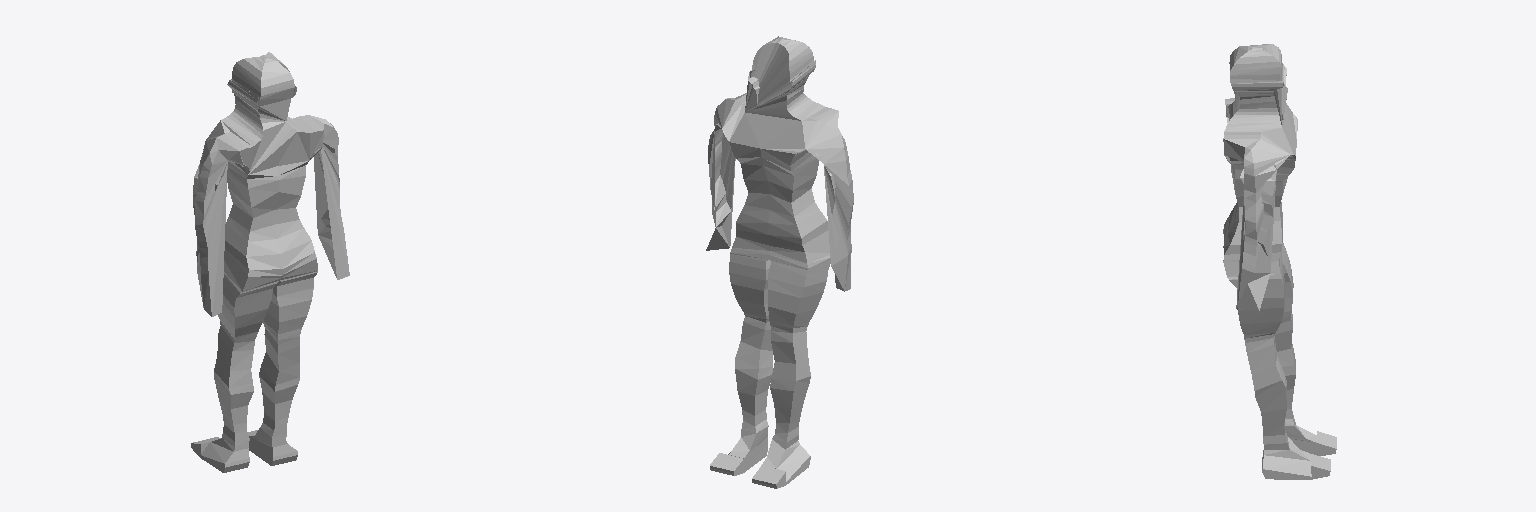
Rendered from woman_000041.obj.
3 views of the same model, side by side, from view 1: azimuth 30°, elevation 25°; view 2: azimuth 150°, elevation 25°; view 3: azimuth 270°, elevation 25° (orthographic).
Visible parts, largest first — view 1: Cube_Cube.001; view 2: Cube_Cube.001; view 3: Cube_Cube.001.
Part boxes in pixels (x1,y1,x2,y2): Cube_Cube.001: (191,52,349,472); Cube_Cube.001: (706,36,853,488); Cube_Cube.001: (1223,44,1336,479).
Size of the model in its own units: 3.62 by 9.91 by 2.45.